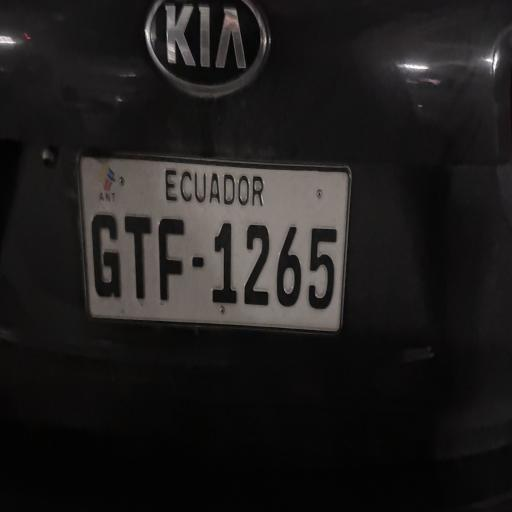license_plate: (80, 158, 350, 331)
